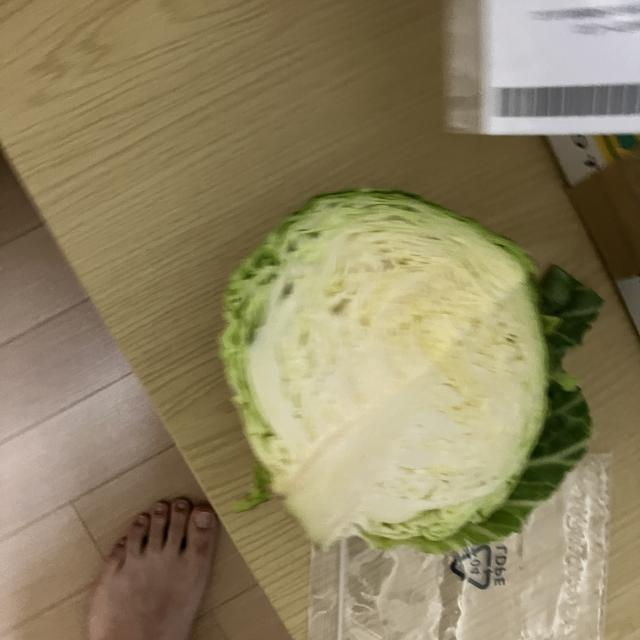haft-cabbage: (217, 184, 604, 572)
